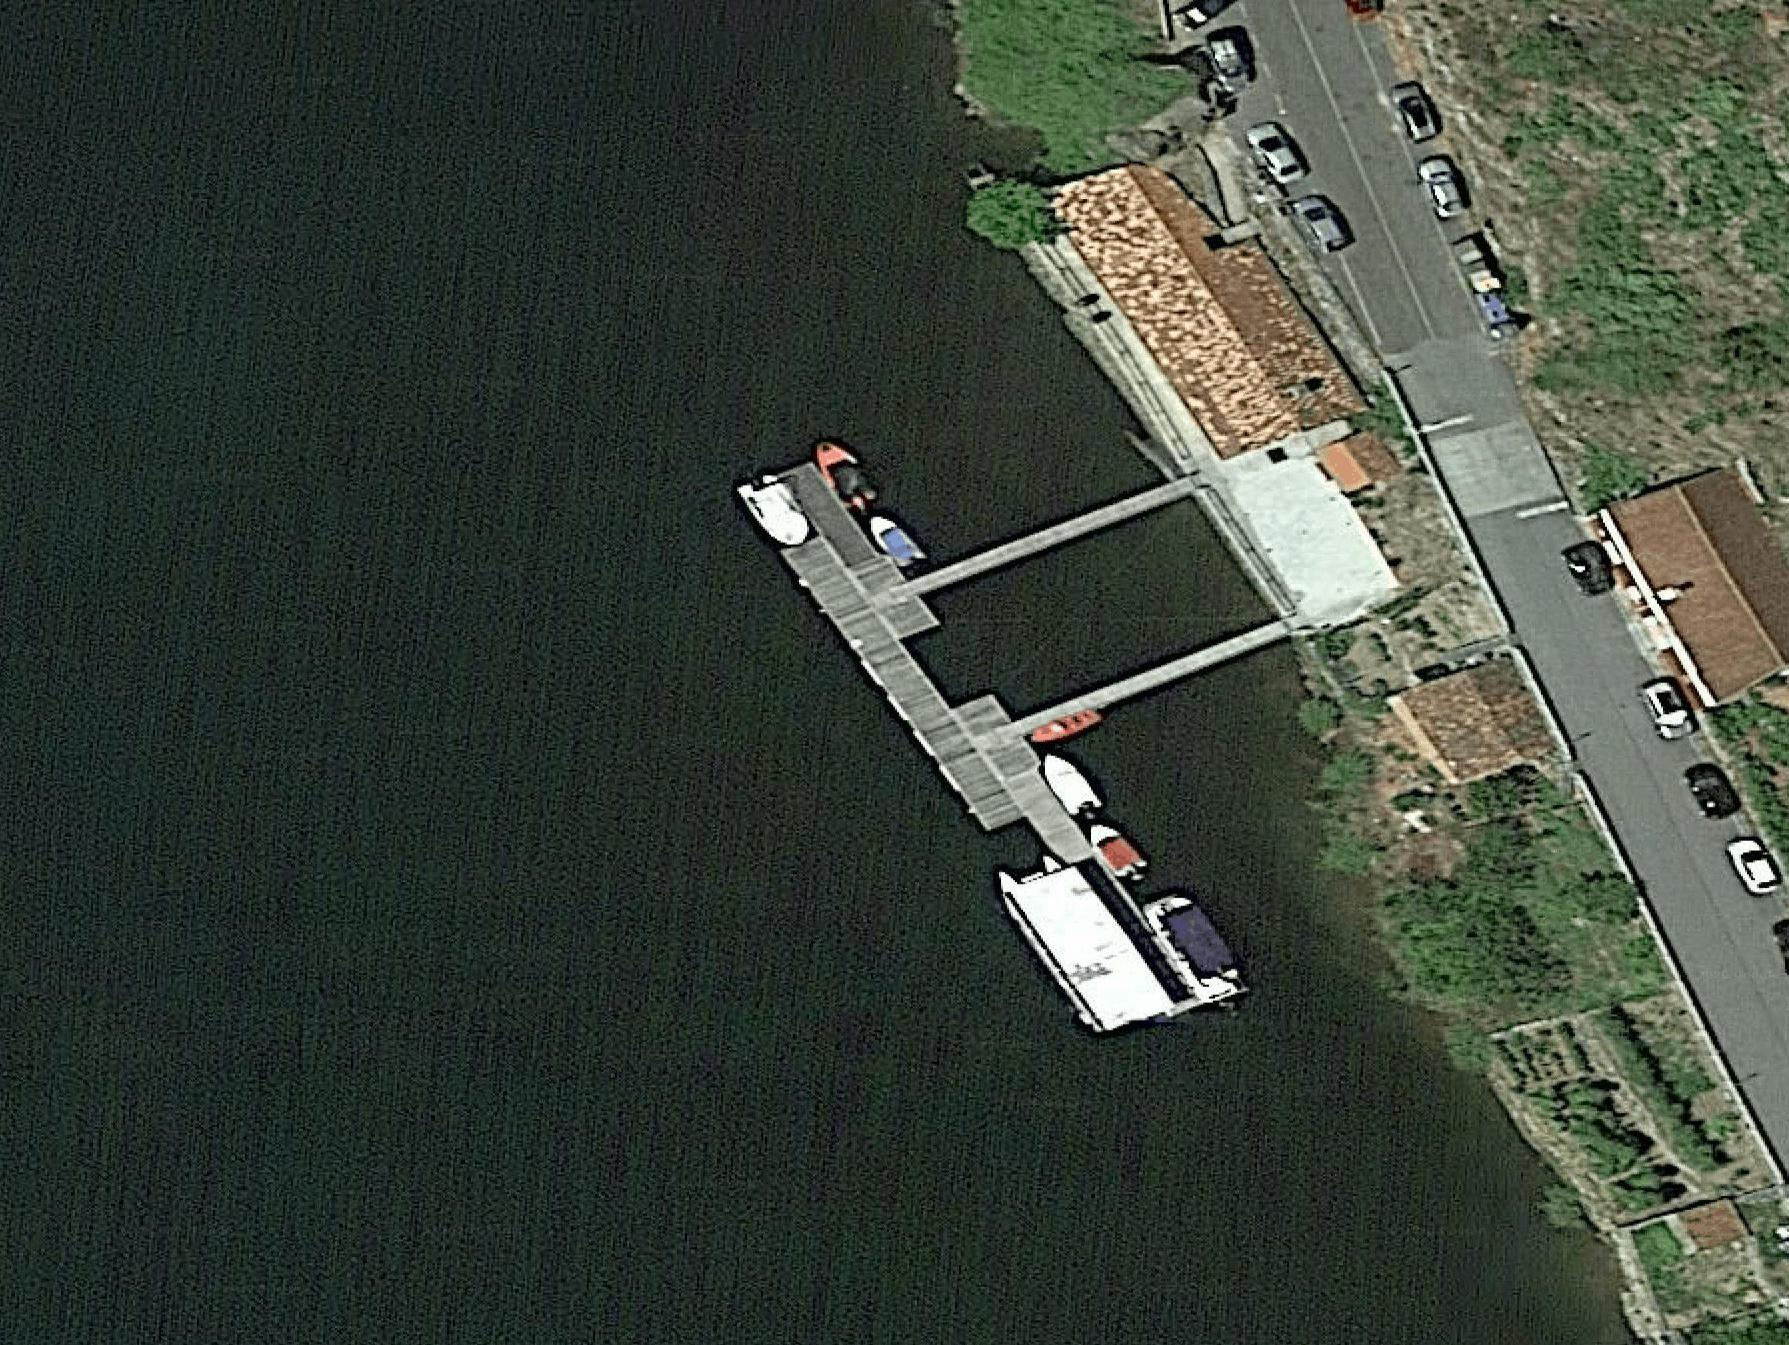harbor: (750, 342, 1277, 1012)
ship: (1036, 745, 1111, 826), (1087, 817, 1157, 886)
small-vehicle: (1451, 233, 1521, 340), (1249, 122, 1309, 192), (1416, 155, 1468, 225), (1725, 835, 1782, 897), (1684, 763, 1741, 824), (1642, 677, 1694, 740), (1388, 85, 1437, 147), (1564, 535, 1612, 595)
